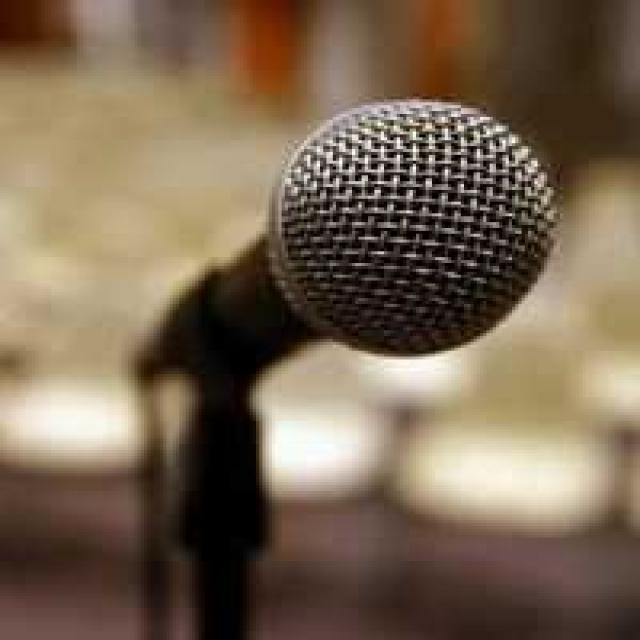microphone: (232, 103, 582, 388)
